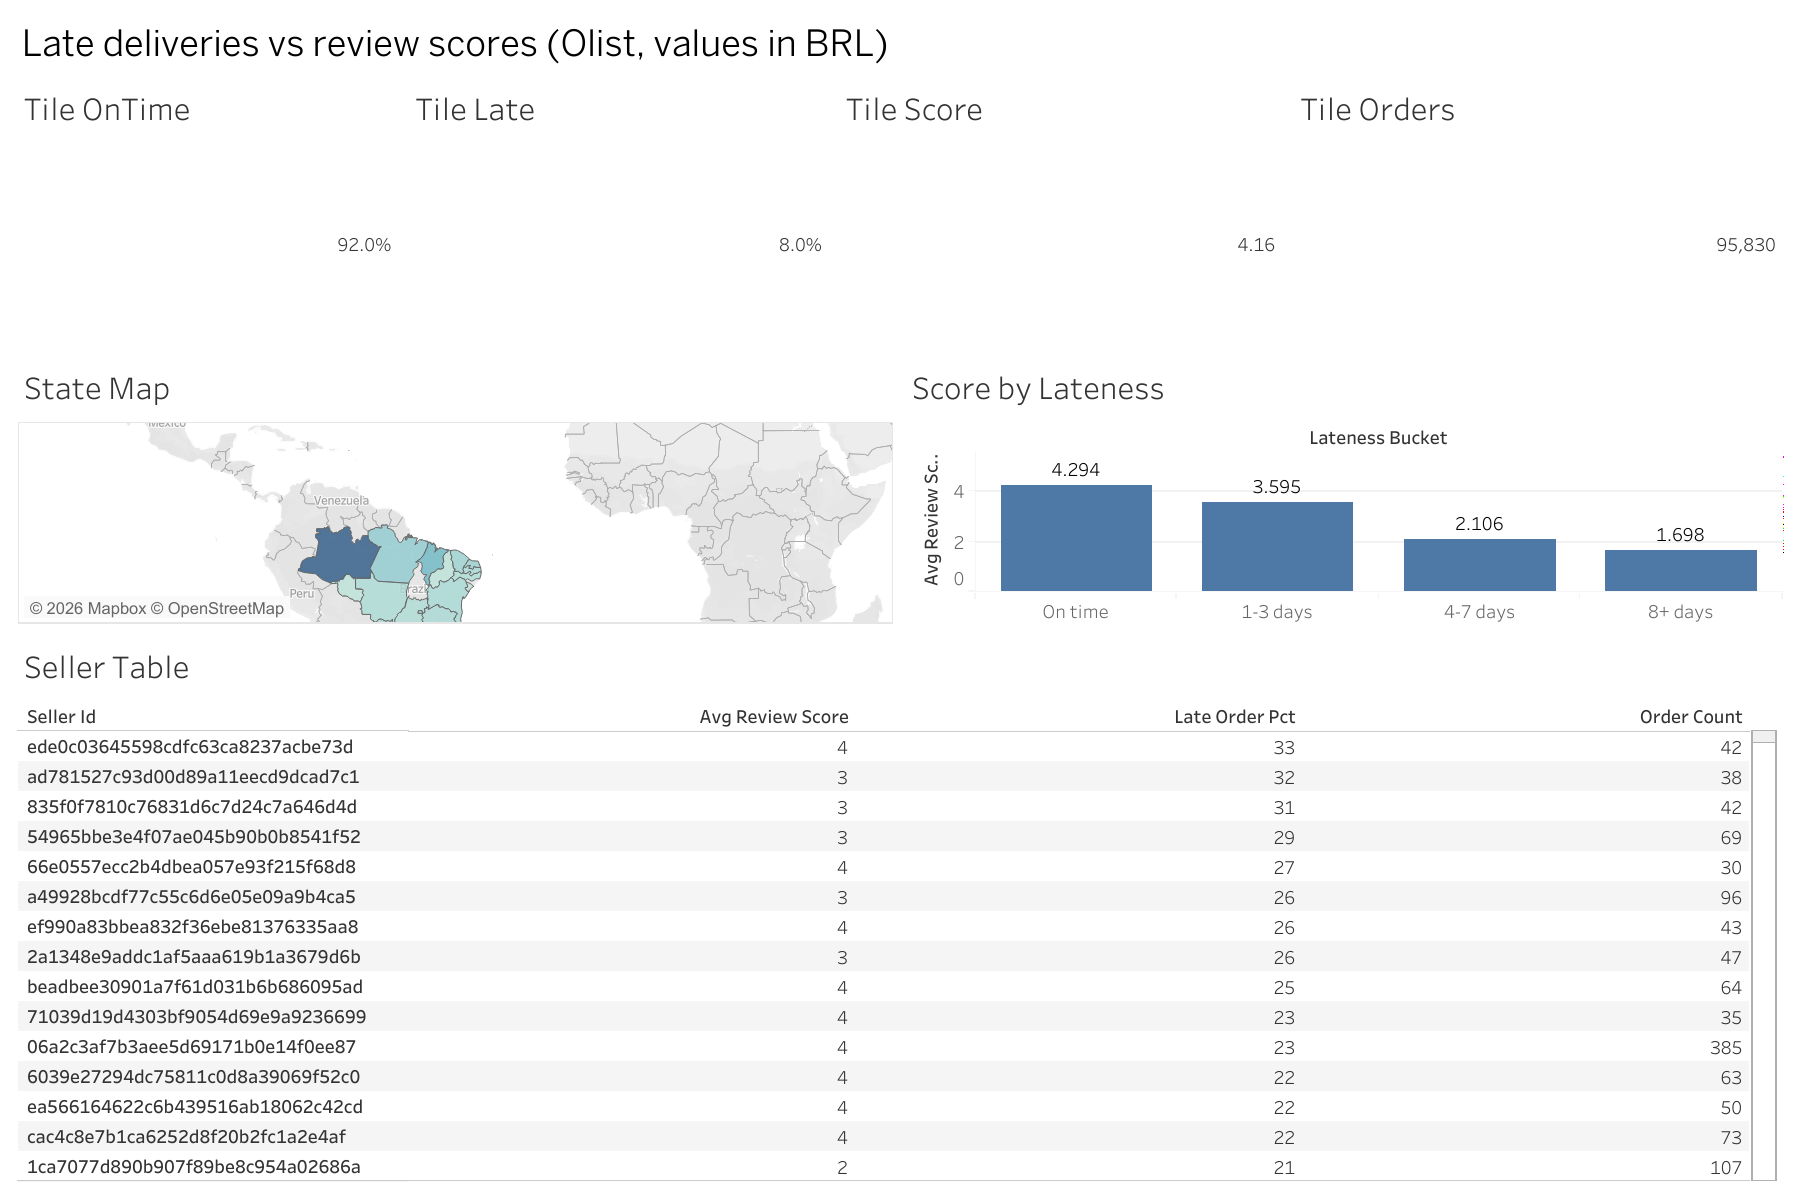

The page's visual inventory and layout, read from the dashboard file:
{"tool":"tableau","page":{"name":"Dashboard 1","canvas":[1200,800],"ordinal":0},"visuals":[{"type":"title","box":[8,8,1184,54]},{"type":"worksheet","title":"Tile OnTime","mark":"Automatic","box":[8,62,261,182.5]},{"type":"worksheet","title":"Tile Late","mark":"Automatic","box":[269,62,287,182.5]},{"type":"worksheet","title":"Tile Score","mark":"Automatic","box":[556,62,303,182.5]},{"type":"worksheet","title":"Tile Orders","mark":"Automatic","box":[859,62,333,182.5]},{"type":"worksheet","title":"State Map","mark":"Automatic","box":[8,244.5,592,182.5]},{"type":"worksheet","title":"Score by Lateness","mark":"Automatic","rows":["avg_review_score"],"cols":["lateness_bucket"],"box":[600,244.5,592,182.5]},{"type":"worksheet","title":"Seller Table","mark":"Automatic","rows":["seller_id"],"box":[8,427,1184,365]}]}

Visuals, with their boxes in screenshot pixels (x1, y1, x2, y2), scaled from the page's 1200x800 canvas onto the 1799x1199 screenshot:
title: x1=12 y1=12 x2=1787 y2=93
"Tile OnTime" worksheet: x1=12 y1=93 x2=403 y2=366
"Tile Late" worksheet: x1=403 y1=93 x2=834 y2=366
"Tile Score" worksheet: x1=834 y1=93 x2=1288 y2=366
"Tile Orders" worksheet: x1=1288 y1=93 x2=1787 y2=366
"State Map" worksheet: x1=12 y1=366 x2=900 y2=640
"Score by Lateness" worksheet: x1=900 y1=366 x2=1787 y2=640
"Seller Table" worksheet: x1=12 y1=640 x2=1787 y2=1187
